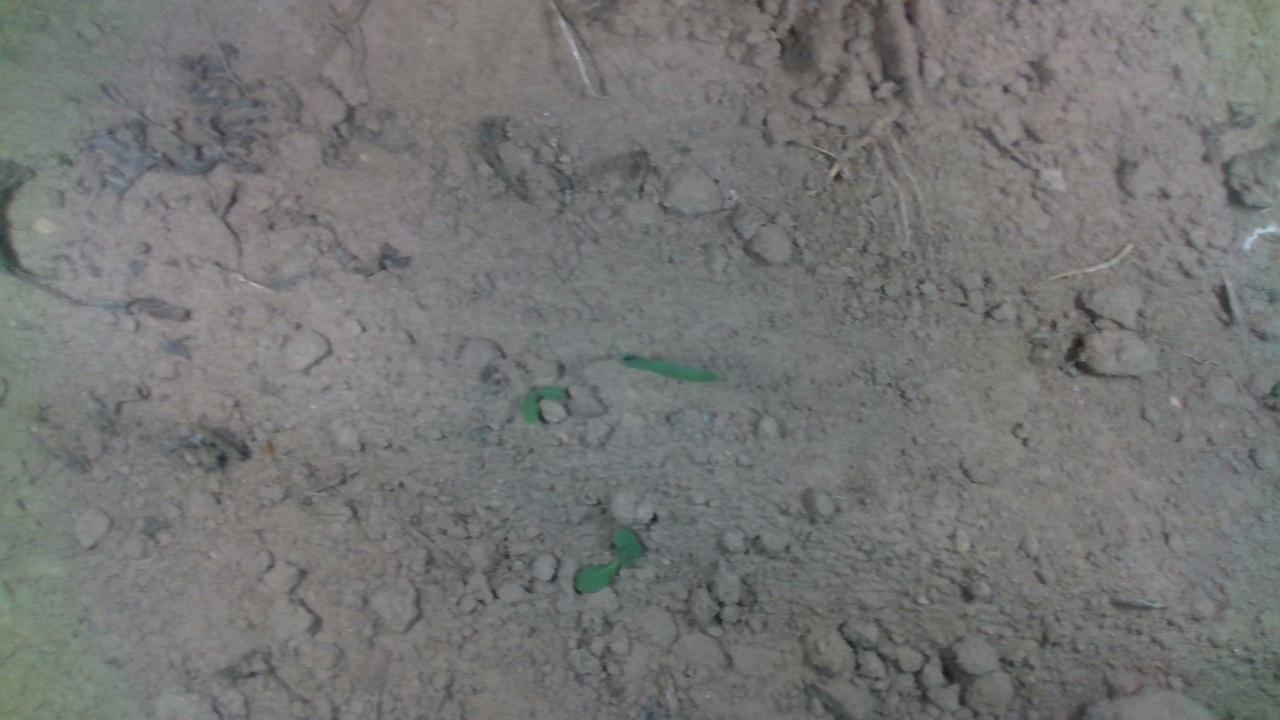weed: (569, 525, 648, 595)
